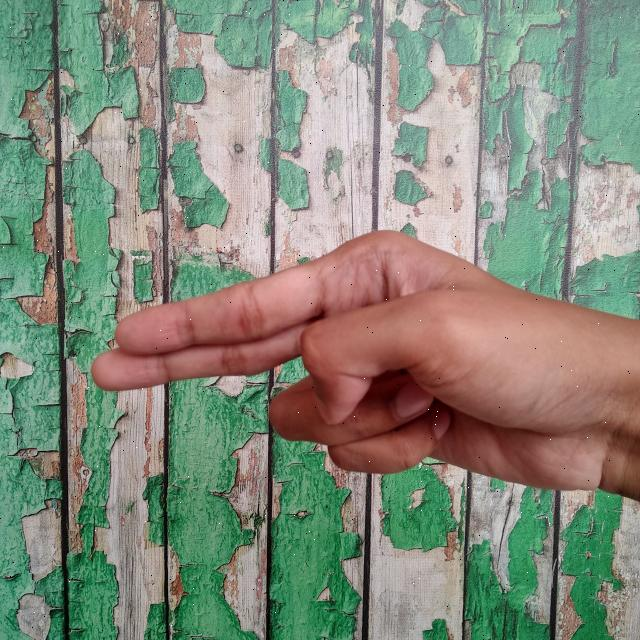H: (82, 221, 640, 516)
